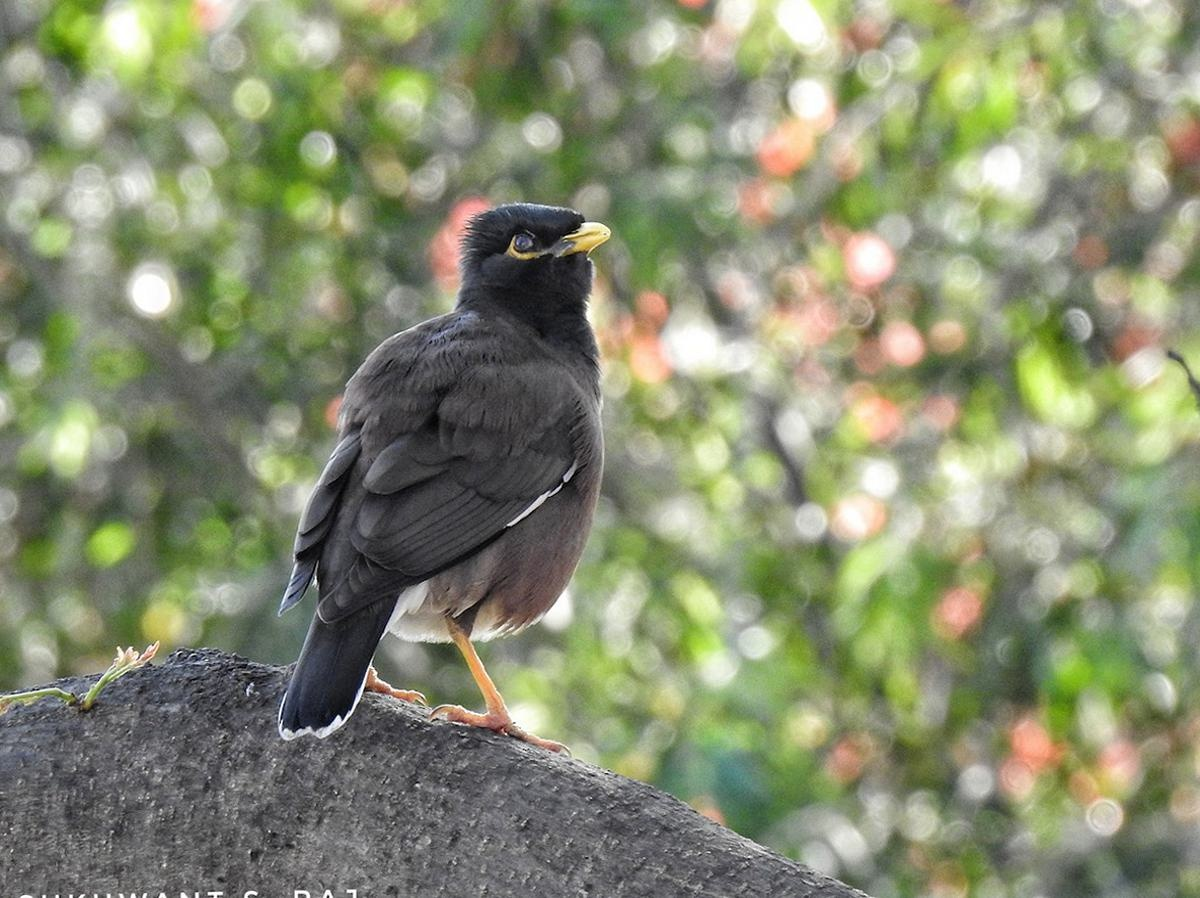myna: (271, 165, 656, 857)
